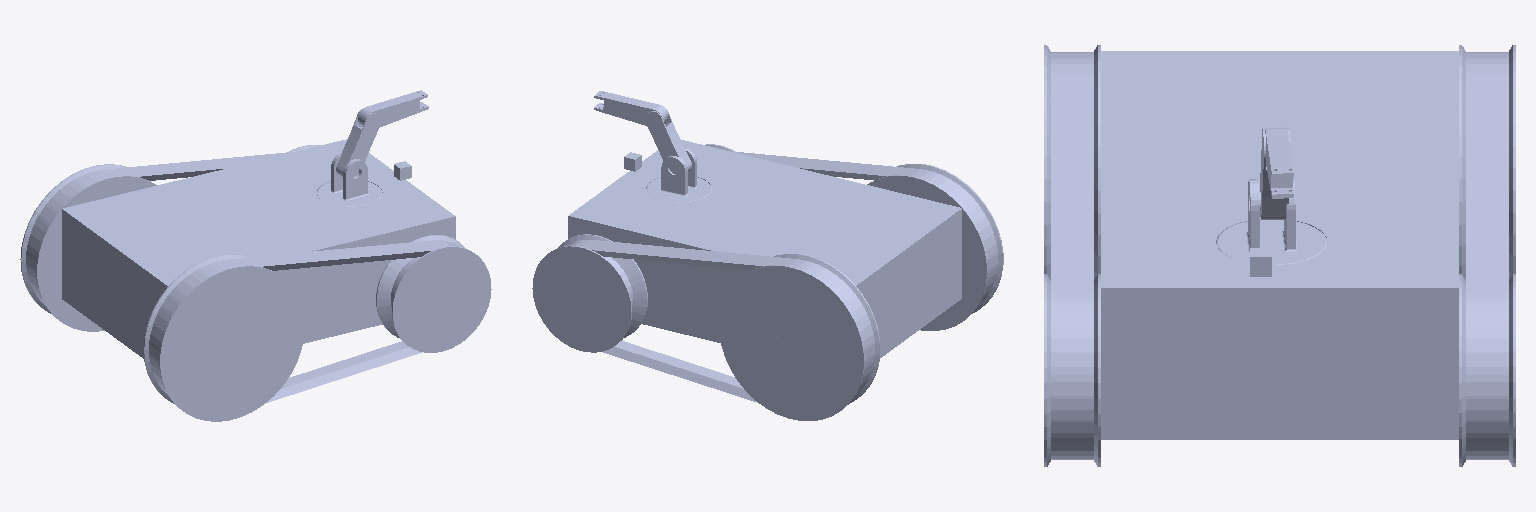
robot.urdf — final_binh:
<?xml version="1.0" encoding="utf-8"?>
<!-- This URDF was automatically created by SolidWorks to URDF Exporter! Originally created by [author] ([email redacted]) 
     Commit Version: 1.6.0-4-g7f85cfe  Build Version: 1.6.7995.38578
     For more information, please see http://wiki.ros.org/sw_urdf_exporter -->
<robot
  name="final_binh">
  <link
    name="base_link">
    <inertial>
      <origin
        xyz="-0.000324261867156922 -3.40855606997814E-06 0.0369312814898062"
        rpy="0 0 0" />
      <mass
        value="3.16662912884944" />
      <inertia
        ixx="0.00780234973984748"
        ixy="-5.50095275441881E-06"
        ixz="6.73807861280501E-05"
        iyy="0.0175948239359823"
        iyz="-2.32087295904176E-06"
        izz="0.0221904574034655" />
    </inertial>
    <visual>
      <origin
        xyz="0 0 0"
        rpy="0 0 0" />
      <geometry>
        <mesh
          filename="package://final_binh/meshes/base_link.STL" />
      </geometry>
      <material
        name="">
        <color
          rgba="0.792156862745098 0.819607843137255 0.933333333333333 1" />
      </material>
    </visual>
    <collision>
      <origin
        xyz="0 0 0"
        rpy="0 0 0" />
      <geometry>
        <mesh
          filename="package://final_binh/meshes/base_link.STL" />
      </geometry>
    </collision>
  </link>
  <link
    name="right1_link">
    <inertial>
      <origin
        xyz="-2.77555756156289E-17 -2.77555756156289E-17 -0.0125"
        rpy="0 0 0" />
      <mass
        value="0.0993309239411309" />
      <inertia
        ixx="4.38084559903455E-05"
        ixy="-6.54299864529446E-21"
        ixz="-1.15500031277765E-21"
        iyy="4.38084559903456E-05"
        iyz="9.14085068132833E-23"
        izz="7.54123490516298E-05" />
    </inertial>
    <visual>
      <origin
        xyz="0 0 0"
        rpy="0 0 0" />
      <geometry>
        <mesh
          filename="package://final_binh/meshes/right1_link.STL" />
      </geometry>
      <material
        name="">
        <color
          rgba="0.792156862745098 0.819607843137255 0.933333333333333 1" />
      </material>
    </visual>
    <collision>
      <origin
        xyz="0 0 0"
        rpy="0 0 0" />
      <geometry>
        <mesh
          filename="package://final_binh/meshes/right1_link.STL" />
      </geometry>
    </collision>
  </link>
  <joint
    name="right1_joint"
    type="continuous">
    <origin
      xyz="0.0985883276343825 -0.105 0.0217221101444408"
      rpy="1.5707963267949 0 0" />
    <parent
      link="base_link" />
    <child
      link="right1_link" />
    <axis
      xyz="0 0 1" />
  </joint>
  <link
    name="right2_link">
    <inertial>
      <origin
        xyz="-6.93889390390723E-18 0 -0.0125"
        rpy="0 0 0" />
      <mass
        value="0.241887879475099" />
      <inertia
        ixx="0.000222254359466381"
        ixy="1.21336318832069E-36"
        ixz="-1.02587836350968E-20"
        iyy="0.000222254359466381"
        iyz="-2.55869624098477E-37"
        izz="0.000416478586236903" />
    </inertial>
    <visual>
      <origin
        xyz="0 0 0"
        rpy="0 0 0" />
      <geometry>
        <mesh
          filename="package://final_binh/meshes/right2_link.STL" />
      </geometry>
      <material
        name="">
        <color
          rgba="0.792156862745098 0.819607843137255 0.933333333333333 1" />
      </material>
    </visual>
    <collision>
      <origin
        xyz="0 0 0"
        rpy="0 0 0" />
      <geometry>
        <mesh
          filename="package://final_binh/meshes/right2_link.STL" />
      </geometry>
    </collision>
  </link>
  <joint
    name="right2_joint"
    type="continuous">
    <origin
      xyz="-0.0834979475756175 -0.105 0.0276567895644408"
      rpy="1.5707963267949 0 0" />
    <parent
      link="base_link" />
    <child
      link="right2_link" />
    <axis
      xyz="0 0 1" />
  </joint>
  <link
    name="left1_link">
    <inertial>
      <origin
        xyz="-8.32667268468867E-17 -4.16333634234434E-17 0.0125"
        rpy="0 0 0" />
      <mass
        value="0.0993309239411309" />
      <inertia
        ixx="4.38084559903455E-05"
        ixy="8.40829092660152E-21"
        ixz="1.50798611293508E-22"
        iyy="4.38084559903455E-05"
        iyz="6.14223493416354E-22"
        izz="7.54123490516298E-05" />
    </inertial>
    <visual>
      <origin
        xyz="0 0 0"
        rpy="0 0 0" />
      <geometry>
        <mesh
          filename="package://final_binh/meshes/left1_link.STL" />
      </geometry>
      <material
        name="">
        <color
          rgba="0.792156862745098 0.819607843137255 0.933333333333333 1" />
      </material>
    </visual>
    <collision>
      <origin
        xyz="0 0 0"
        rpy="0 0 0" />
      <geometry>
        <mesh
          filename="package://final_binh/meshes/left1_link.STL" />
      </geometry>
    </collision>
  </link>
  <joint
    name="left1_joint"
    type="continuous">
    <origin
      xyz="0.0985883276343825 0.105 0.0217221101444408"
      rpy="1.5707963267949 0 0" />
    <parent
      link="base_link" />
    <child
      link="left1_link" />
    <axis
      xyz="0 0 1" />
  </joint>
  <link
    name="left2_link">
    <inertial>
      <origin
        xyz="0 0 0.0125"
        rpy="0 0 0" />
      <mass
        value="0.241887879475098" />
      <inertia
        ixx="0.000222254359466381"
        ixy="1.21336318832068E-36"
        ixz="-1.02587836350968E-20"
        iyy="0.000222254359466381"
        iyz="-2.55869624098477E-37"
        izz="0.000416478586236903" />
    </inertial>
    <visual>
      <origin
        xyz="0 0 0"
        rpy="0 0 0" />
      <geometry>
        <mesh
          filename="package://final_binh/meshes/left2_link.STL" />
      </geometry>
      <material
        name="">
        <color
          rgba="0.792156862745098 0.819607843137255 0.933333333333333 1" />
      </material>
    </visual>
    <collision>
      <origin
        xyz="0 0 0"
        rpy="0 0 0" />
      <geometry>
        <mesh
          filename="package://final_binh/meshes/left2_link.STL" />
      </geometry>
    </collision>
  </link>
  <joint
    name="left2_joint"
    type="continuous">
    <origin
      xyz="-0.0834979475756175 0.105 0.0276567895644408"
      rpy="1.5707963267949 0 0" />
    <parent
      link="base_link" />
    <child
      link="left2_link" />
    <axis
      xyz="0 0 1" />
  </joint>
  <link
    name="link1_link">
    <inertial>
      <origin
        xyz="0.00631668333694865 0.0115892577589509 0.00562583371911912"
        rpy="0 0 0" />
      <mass
        value="0.00713198703426089" />
      <inertia
        ixx="9.76709820830638E-07"
        ixy="-3.92119572192848E-07"
        ixz="1.34384237922081E-08"
        iyy="4.16111676948775E-07"
        iyz="2.32595917593344E-08"
        izz="1.20246364632738E-06" />
    </inertial>
    <visual>
      <origin
        xyz="0 0 0"
        rpy="0 0 0" />
      <geometry>
        <mesh
          filename="package://final_binh/meshes/link1_link.STL" />
      </geometry>
      <material
        name="">
        <color
          rgba="0.792156862745098 0.819607843137255 0.933333333333333 1" />
      </material>
    </visual>
    <collision>
      <origin
        xyz="0 0 0"
        rpy="0 0 0" />
      <geometry>
        <mesh
          filename="package://final_binh/meshes/link1_link.STL" />
      </geometry>
    </collision>
  </link>
  <joint
    name="link1_joint"
    type="continuous">
    <origin
      xyz="0.0763599612396356 0.00332522402290375 0.095"
      rpy="1.5707963267949 0 0" />
    <parent
      link="base_link" />
    <child
      link="link1_link" />
    <axis
      xyz="0.0592148162091871 0 0.998245263220073" />
  </joint>
  <link
    name="link2_link">
    <inertial>
      <origin
        xyz="0.0182120371413058 0.00106462734475279 0.003928472720377"
        rpy="0 0 0" />
      <mass
        value="0.00724275728808697" />
      <inertia
        ixx="1.92594878872013E-07"
        ixy="-8.77957960512386E-08"
        ixz="9.08701715583708E-08"
        iyy="1.66464164547708E-06"
        iyz="5.2079247060559E-09"
        izz="1.71910138740231E-06" />
    </inertial>
    <visual>
      <origin
        xyz="0 0 0"
        rpy="0 0 0" />
      <geometry>
        <mesh
          filename="package://final_binh/meshes/link2_link.STL" />
      </geometry>
      <material
        name="">
        <color
          rgba="0.792156862745098 0.819607843137255 0.933333333333333 1" />
      </material>
    </visual>
    <collision>
      <origin
        xyz="0 0 0"
        rpy="0 0 0" />
      <geometry>
        <mesh
          filename="package://final_binh/meshes/link2_link.STL" />
      </geometry>
    </collision>
  </link>
  <joint
    name="link2_joint"
    type="continuous">
    <origin
      xyz="0.0188069653584598 0.036445034347123 -0.000133885931722505"
      rpy="0 0 0" />
    <parent
      link="link1_link" />
    <child
      link="link2_link" />
    <axis
      xyz="0.0592148162091871 0 0.998245263220073" />
  </joint>
 <link name="camera_link">
    <inertial>
      <origin xyz="-0.000532244761685979 -0.00500000000000003 0" rpy="0 0 0" />
      <mass value="0.000861769923242052" />
      <inertia
        ixx="1.57870207236616E-08"
        ixy="-1.1119119370247E-25"
        ixz="9.49704937467344E-25"
        iyy="1.42276145493079E-08"
        iyz="-1.05636279367223E-24"
        izz="1.42276145493079E-08" />
    </inertial>
    
    <visual>
      <origin xyz="0 0 0" rpy="0 1.5708 0" />
      <geometry>
        <mesh filename="package://final_binh/meshes/camera_link.STL" />
      </geometry>
      <material name="">
        <color rgba="0.792156862745098 0.819607843137255 0.933333333333333 1" />
      </material>
    </visual>

    <collision>
      <origin xyz="0 0 0" rpy="0 1.5708 0" />
      <geometry>
        <mesh filename="package://final_binh/meshes/camera_link.STL" />
      </geometry>
    </collision>
</link>

  <joint
    name="camera_joint"
    type="fixed">
    <origin
      xyz="0.12 -0.00358837436572068 0.085"
      rpy="0 0 0" />
    <parent
      link="base_link" />
    <child
      link="camera_link" />
    <axis
      xyz="0 0 0" />
  </joint>



<gazebo>
  <plugin name="diff_drive_controller" filename="libgazebo_ros_diff_drive.so">
	<ros>
  	<namespace>/</namespace>

  	<remap>
    	<from>cmd_vel</from>
    	<to>/cmd_vel</to>
  	</remap>

  	<rosDebugLevel>INFO</rosDebugLevel>
	</ros>

	<leftJoint>left1_joint</leftJoint> 
	<leftJoint>left2_joint</leftJoint> 
	<rightJoint>right1_joint</rightJoint> 
	<rightJoint>right2_joint</rightJoint> 

	<wheelSeparation>0.1566</wheelSeparation> 
	<wheelDiameter>0.07</wheelDiameter>     	 
	<wheelAcceleration>1.0</wheelAcceleration>  
	<wheelTorque>10</wheelTorque>           	  

	<commandTopic>cmd_vel</commandTopic>     
	<odometryTopic>odom</odometryTopic>  
	<odometryFrame>odom</odometryFrame>      
	<robotBaseFrame>base_footprint</robotBaseFrame> 

	<publishWheelTF>true</publishWheelTF>      
	<publishOdomTF>true</publishOdomTF>          
	<publishWheelJointState>true</publishWheelJointState> 
	<publishTf>1</publishTf>                    

	<updateRate>100</updateRate> 

	<odometrySource>1</odometrySource> 

	<rosDebugLevel>info</rosDebugLevel>

  </plugin>
</gazebo>



<!-- Plugin Camera -->
<gazebo reference="camera_link"> 
  <sensor type="camera" name="camera_sensor"> 
    
    <update_rate>30</update_rate> 
    
    <camera> 
      
      <horizontal_fov>1.3962634</horizontal_fov>
      
      <image> 
        <width>640</width> 
        <height>480</height> 
        <format>R8G8B8</format> 
      </image>
      
    </camera> 
    
    <plugin name="camera_controller" filename="libgazebo_ros_camera.so"> 
      
      <alwaysOn>true</alwaysOn> 
      
      <updateRate>30.0</updateRate> 
      
      <cameraName>my_camera</cameraName> 
      
      <frameName>camera_link</frameName> 
      
      <imageTopicName>/camera/image_raw</imageTopicName> 
      
      <cameraInfoTopicName>/camera/camera_info</cameraInfoTopicName> 
      
    </plugin> 
    
    <pose>0 0 0 0 0 0</pose> 
                                
  </sensor> 
</gazebo> 

<transmission name="link1_joint_transmission">
    <type>transmission_interface/SimpleTransmission</type>

    <joint name="link1_joint">
        <hardwareInterface>hardware_interface/PositionJointInterface</hardwareInterface>
    </joint>

    <actuator name="link1_servo">
        <mechanicalReduction>1.0</mechanicalReduction>
    </actuator>
</transmission>

<transmission name="link2_joint_transmission">
    <type>transmission_interface/SimpleTransmission</type>

    <joint name="link2_joint">
        <hardwareInterface>hardware_interface/PositionJointInterface</hardwareInterface>
    </joint>

    <actuator name="link2_servo">
        <mechanicalReduction>1.0</mechanicalReduction>
    </actuator>
</transmission>

<gazebo>
    <plugin name="gazebo_ros_control" filename="libgazebo_ros_control.so">
        <robotNamespace>/</robotNamespace>
    </plugin>
</gazebo>

<!-- IMU plugin -->
<gazebo reference="base_link">
  <gravity>true</gravity>
  <sensor name="imu_sensor" type="imu">
    <always_on>true</always_on>
    <update_rate>10</update_rate>
    <visualize>true</visualize>
    <topic>__default_topic__</topic>
    <plugin filename="libgazebo_ros_imu_sensor.so" name="imu_plugin">
      <topicName>imu</topicName>
      <bodyName>base_link</bodyName>
      <updateRateHZ>10.0</updateRateHZ>
      <frameName>base_link</frameName>
      <initialOrientationAsReference>false</initialOrientationAsReference>
    </plugin>
    <pose>0 0 0 0 0 0</pose>
  </sensor>
</gazebo>

</robot>

--- Facts derived from the render (not from the file) ---
Views: 3 orthographic renders of the robot side by side, from view 1: azimuth 30°, elevation 25°; view 2: azimuth 150°, elevation 25°; view 3: azimuth 270°, elevation 25°.
Robot: final_binh — 8 links, 7 joints (6 continuous, 1 fixed); root link base_link; default pose: all joints at 0.
Links seen in each view (by area): view 1: base_link, right2_link, right1_link, left2_link, link2_link, link1_link; view 2: base_link, left2_link, left1_link, right2_link, link2_link, link1_link; view 3: base_link, right2_link, left2_link, left1_link, right1_link, link2_link, link1_link, camera_link.
Link boxes in pixels (x1,y1,x2,y2): base_link: (26, 139, 458, 403); right2_link: (143, 254, 304, 421); right1_link: (376, 235, 491, 352); left2_link: (20, 164, 156, 331); link2_link: (358, 90, 428, 126); link1_link: (336, 109, 381, 176); base_link: (566, 139, 997, 402); left2_link: (719, 254, 880, 420); left1_link: (532, 234, 647, 352); right2_link: (867, 164, 1003, 330); link2_link: (594, 91, 667, 125); link1_link: (644, 106, 691, 173); base_link: (1051, 51, 1508, 459); right2_link: (1044, 45, 1100, 279); left2_link: (1459, 45, 1515, 279); left1_link: (1459, 274, 1515, 466); right1_link: (1044, 274, 1100, 466); link2_link: (1263, 127, 1293, 198); link1_link: (1259, 128, 1290, 219); camera_link: (1250, 248, 1271, 276).
Bounding box of the posed robot: 0.2924 × 0.21 × 0.1757 m (x, y, z).
Meshes: 8 distinct files referenced, 8 mesh visuals loaded (8 binary STL).
